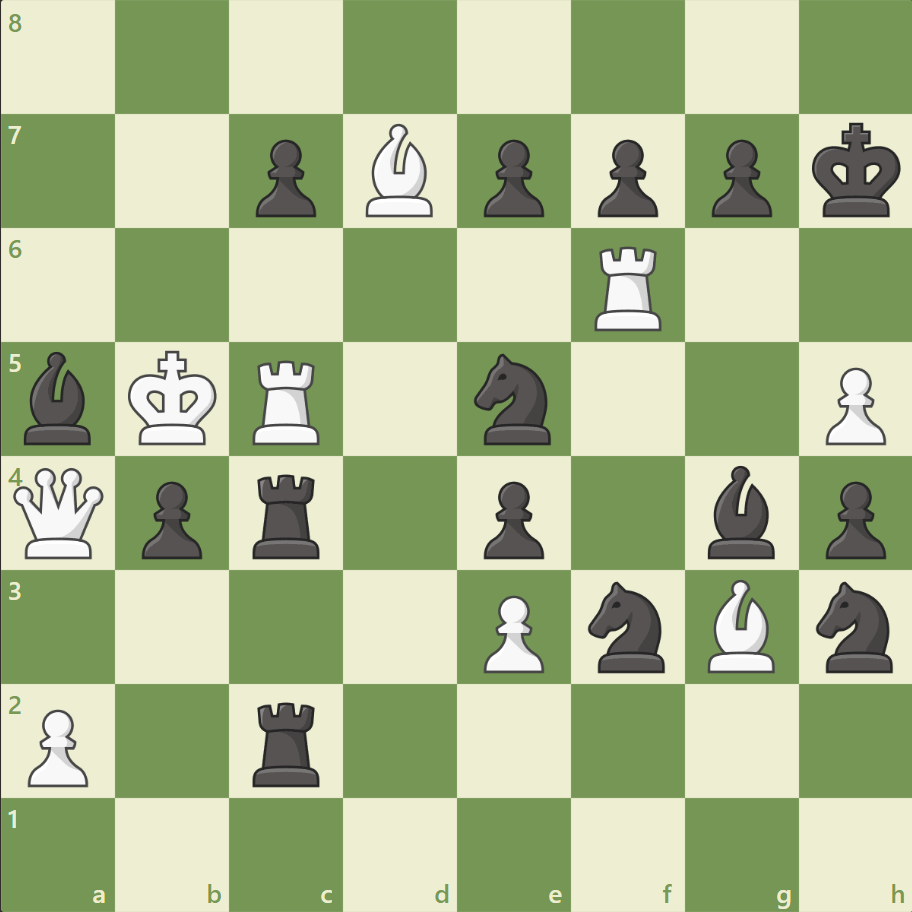B: (358, 120, 442, 222), (698, 574, 782, 676)
K: (124, 344, 224, 452)
P: (474, 586, 549, 677), (20, 700, 95, 791), (815, 359, 889, 450)
Q: (10, 463, 109, 562)
R: (587, 239, 670, 336), (246, 352, 329, 449)
b: (698, 460, 782, 563), (17, 347, 101, 449)
k: (806, 117, 906, 225)
n: (465, 348, 562, 450), (579, 575, 676, 677), (806, 575, 903, 677)
p: (247, 132, 322, 223), (474, 132, 549, 223), (701, 132, 776, 223), (133, 473, 208, 564), (474, 473, 549, 564), (588, 132, 662, 223), (815, 473, 889, 564)
r: (246, 466, 329, 563), (246, 693, 329, 790)
